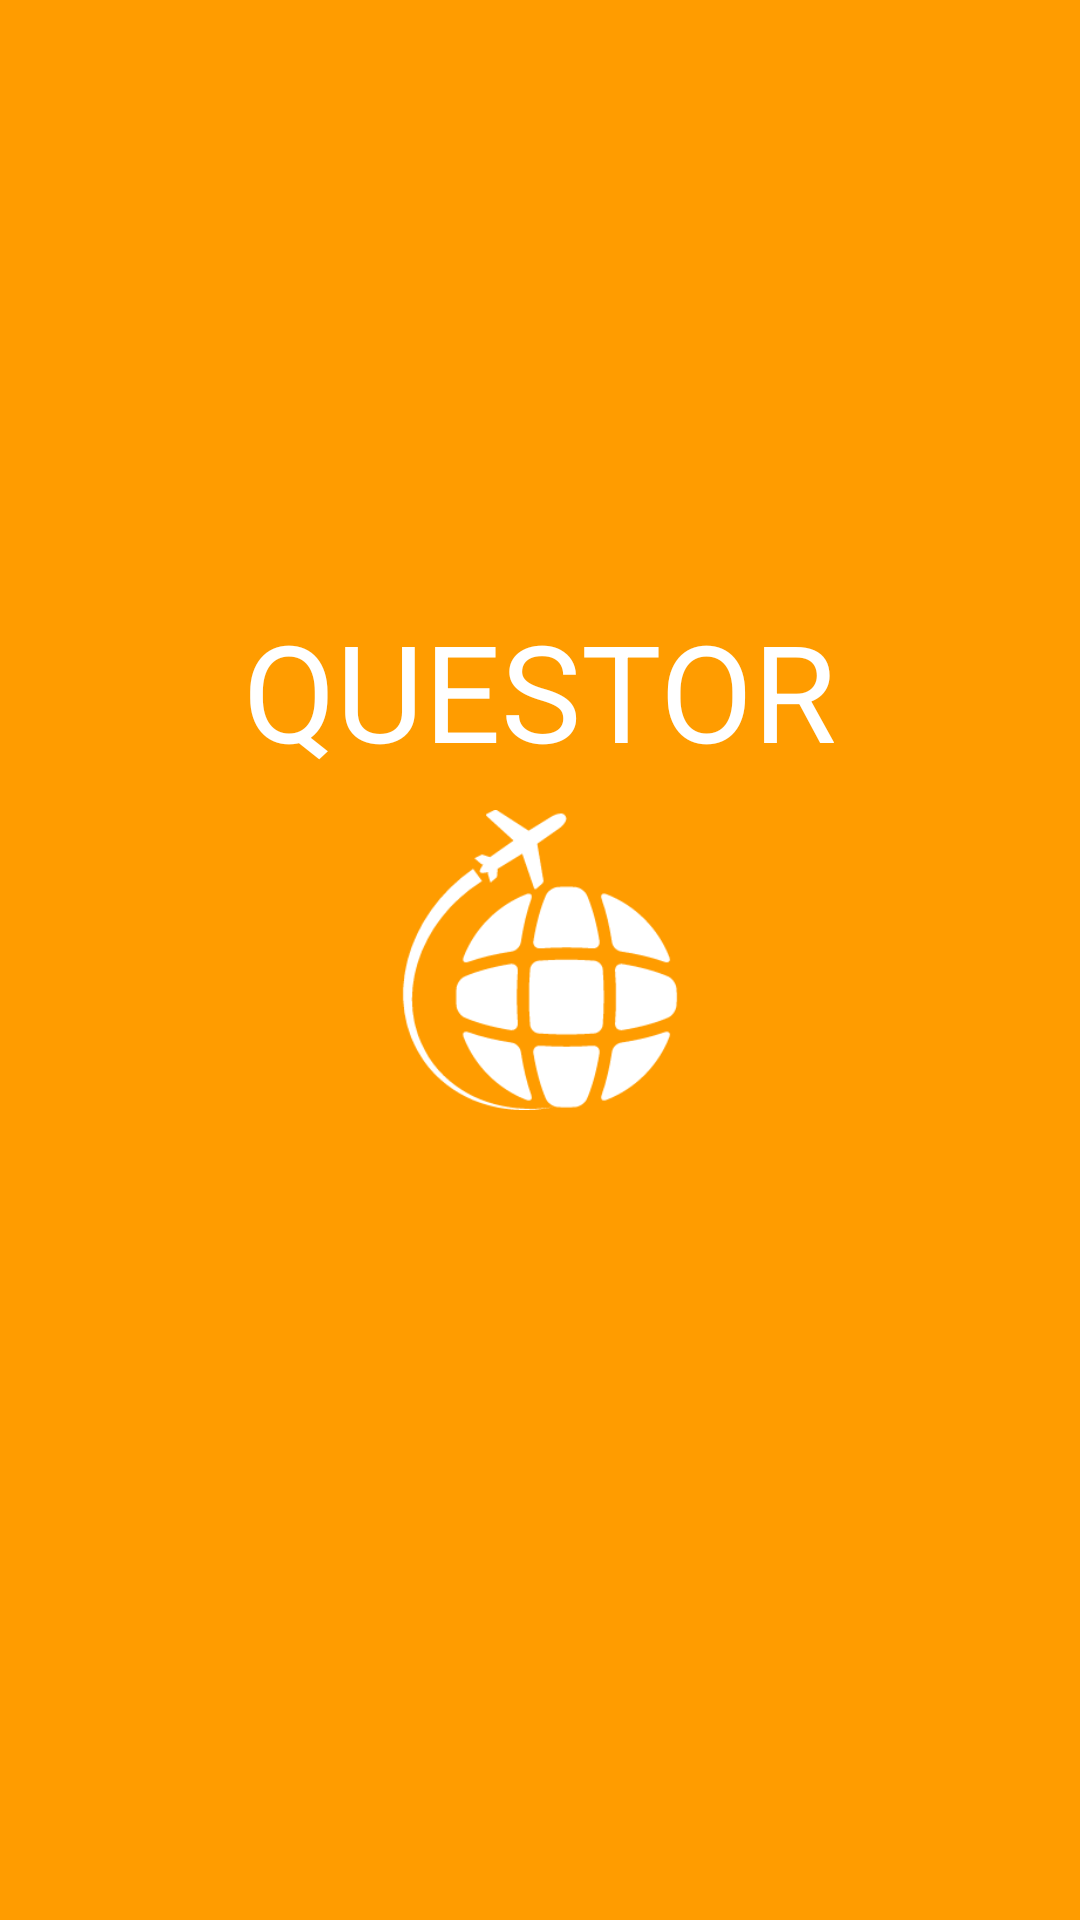

Where to tap for icons on this 1080×1920 app screen, as (x,y):
airplane: (540,960)
